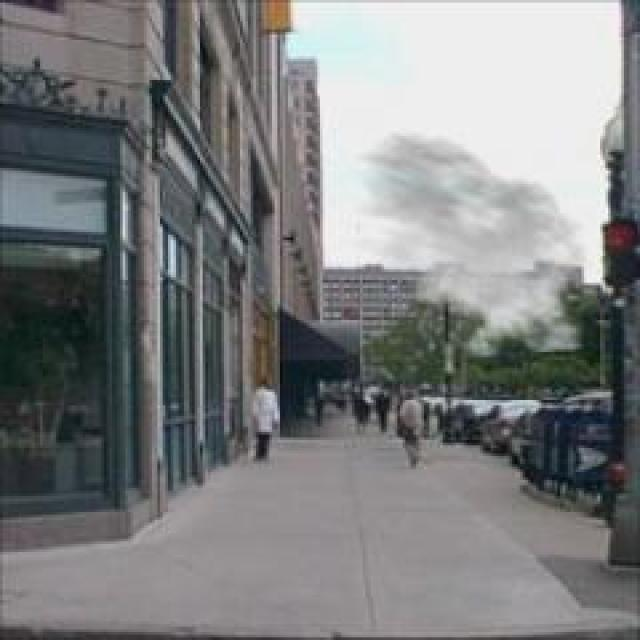smoke: (335, 131, 597, 361)
